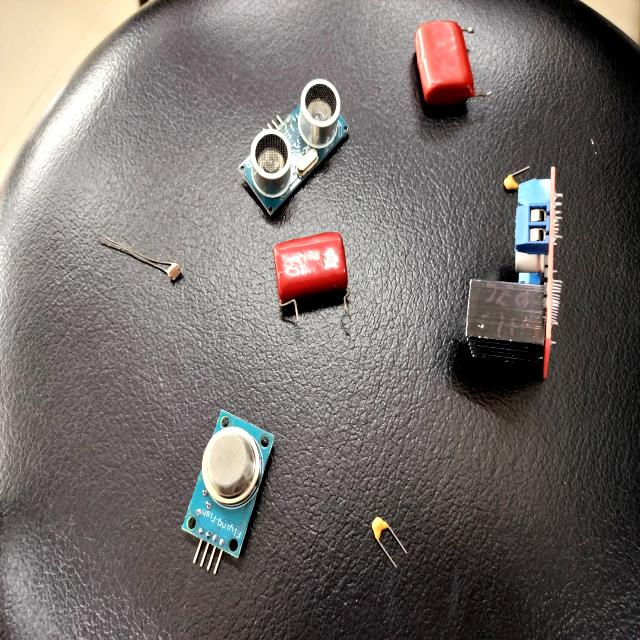capacitor: (411, 21, 474, 121), (275, 234, 348, 312), (372, 517, 388, 539), (504, 175, 519, 189)
